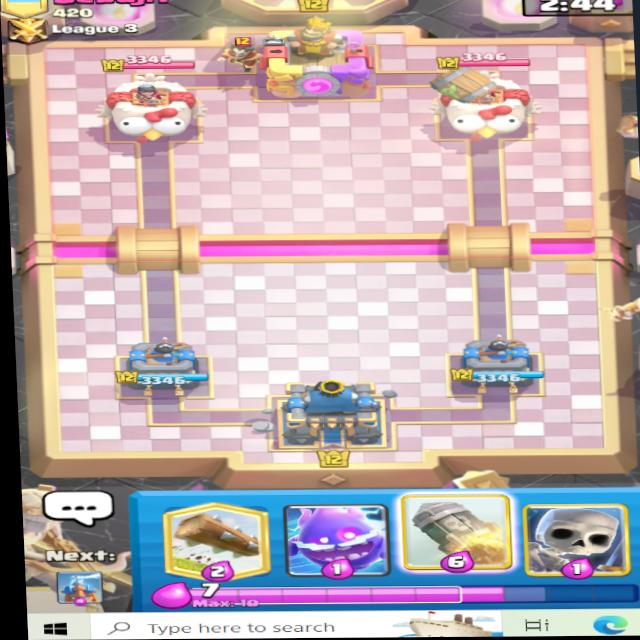electro-wizard: (204, 29, 270, 75)
